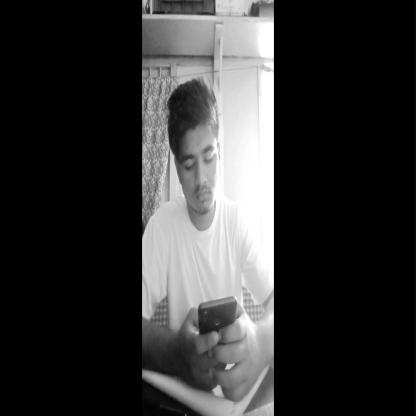Normal: (160, 79, 228, 222)
